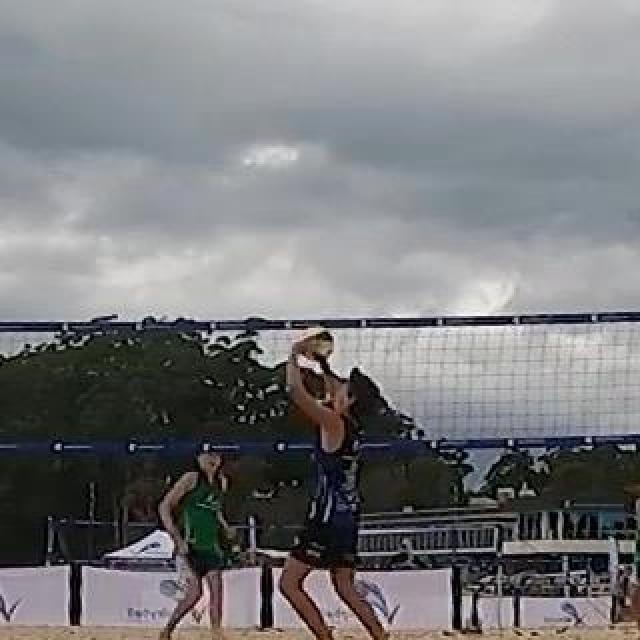volleyball: (301, 329, 333, 361)
